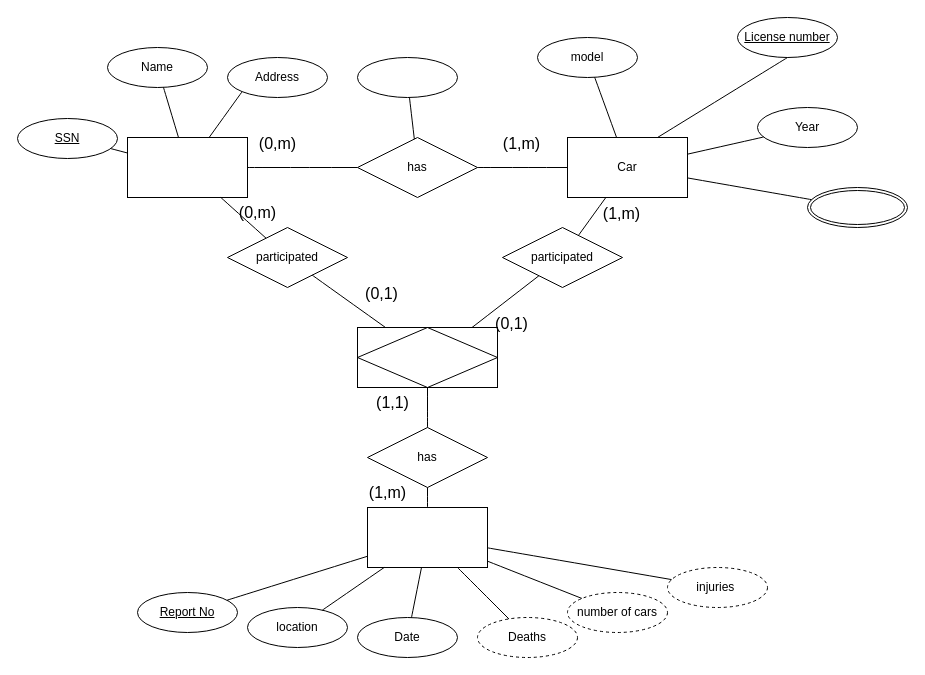
Some shapes in this 925 by 675 pixel diagram are drawn without their labels. Each missing label, with the centre of its shape:
"Accident" goes at (427,537).
"accident participant" goes at (427,357).
"colors" goes at (857,207).
"Human" goes at (187,167).
"ownership status" goes at (407,77).
